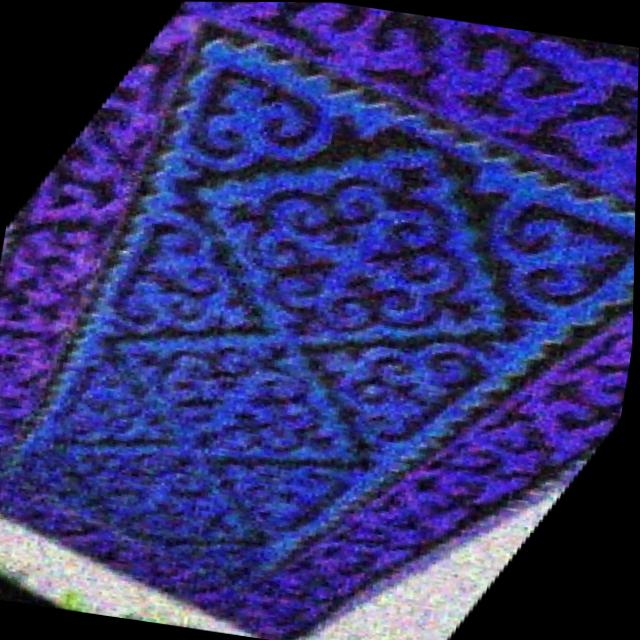Unity: (212, 156, 488, 340), (311, 342, 505, 453), (101, 206, 256, 332)
